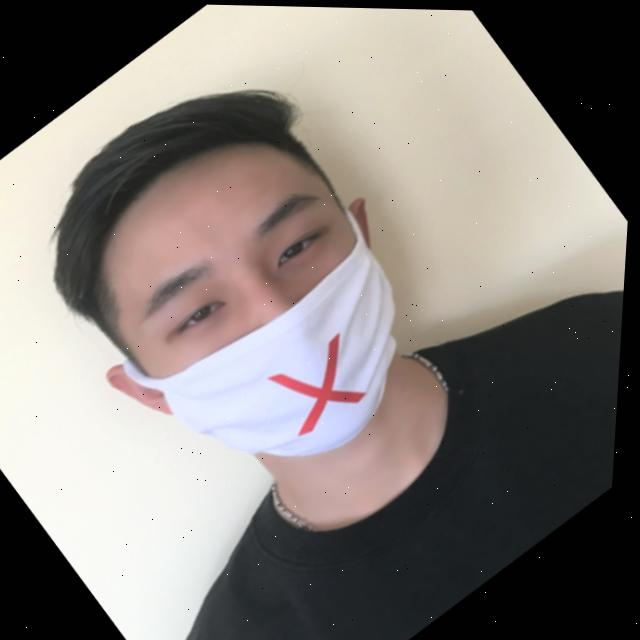Mask: (97, 180, 485, 545)
